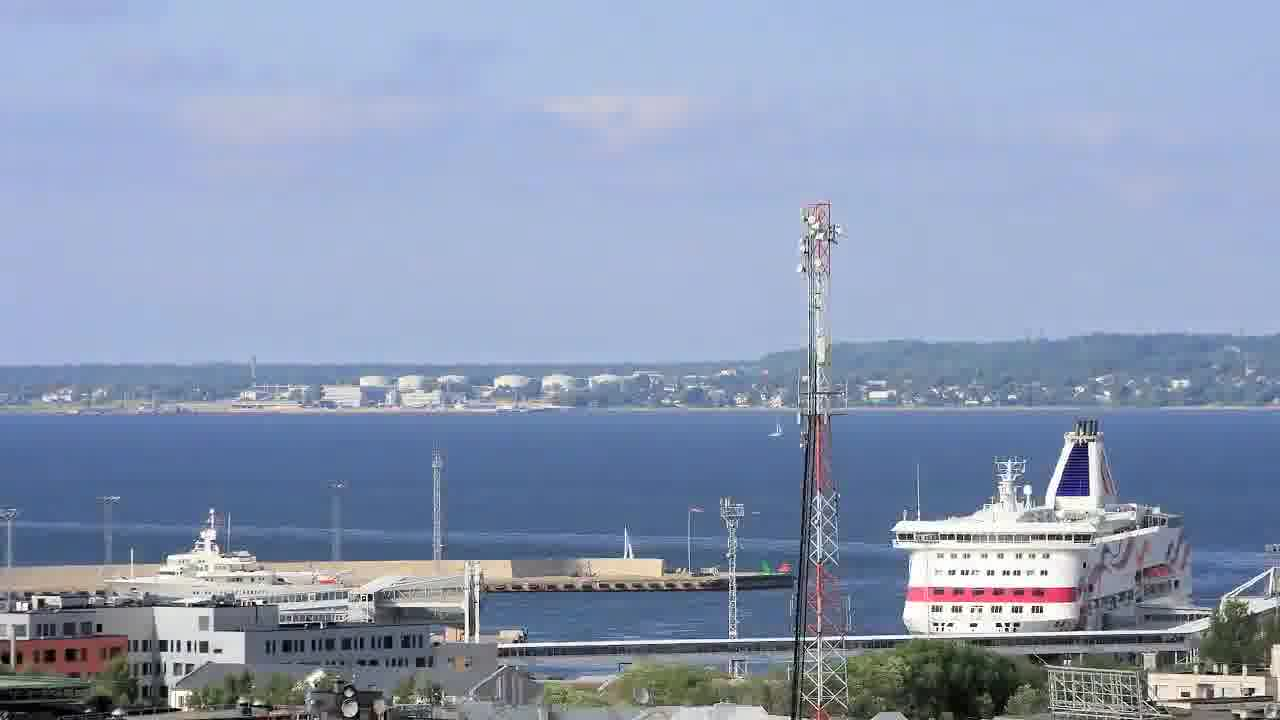type-2: (756, 406, 795, 457)
type-3: (868, 415, 1225, 638), (84, 511, 353, 609)
